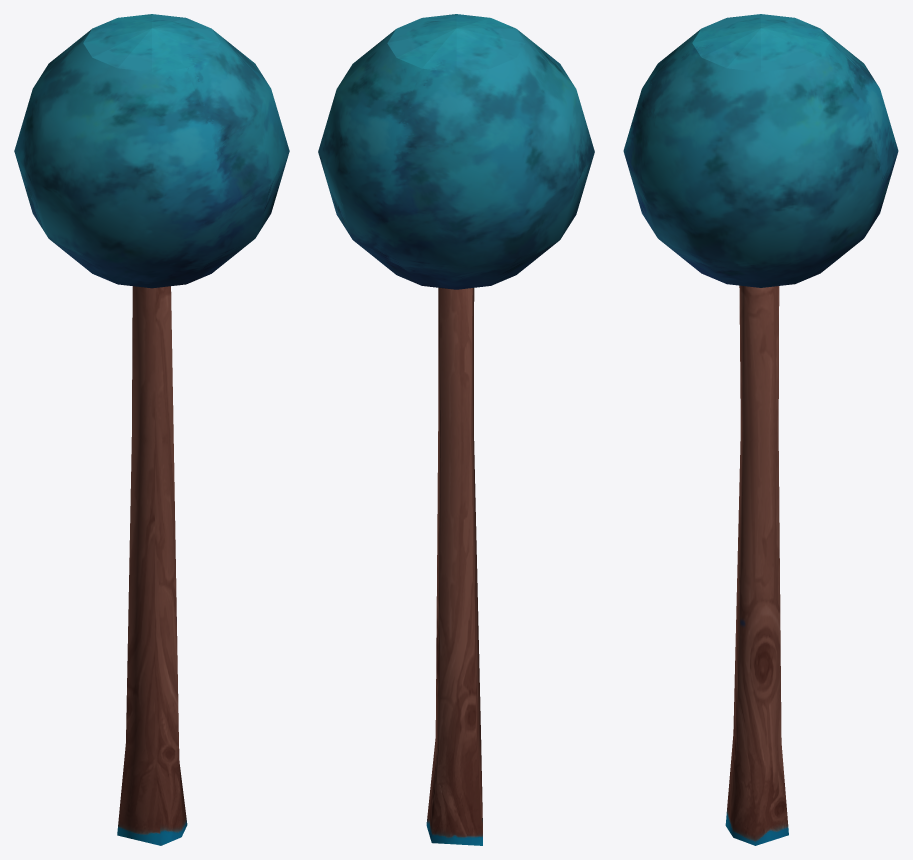
The model's file is nameikexingshu.FBX.
3 renders of one model, left to right at view 1: azimuth 30°, elevation 25°; view 2: azimuth 150°, elevation 25°; view 3: azimuth 270°, elevation 25°, orthographic.
Visible parts, largest first — view 1: nameikexingshu; view 2: nameikexingshu; view 3: nameikexingshu.
Part boxes in pixels (left/top/right/bottom): nameikexingshu: left=14, top=14, right=289, bottom=845; nameikexingshu: left=318, top=14, right=594, bottom=845; nameikexingshu: left=623, top=14, right=898, bottom=845.
Size of the model in its own units: 541 by 1741 by 541.
